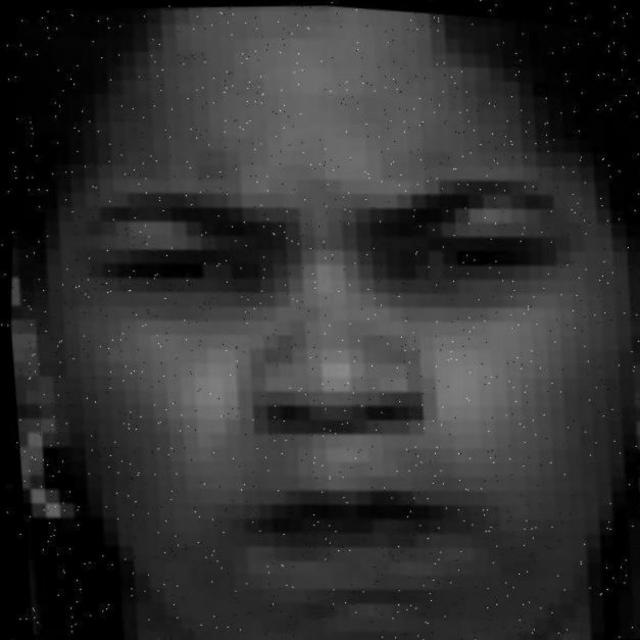Angry: (5, 23, 640, 617)
